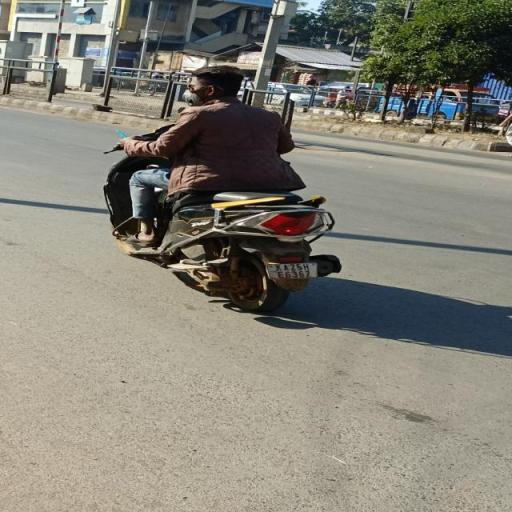bike: (96, 64, 350, 316)
numberplate: (268, 262, 319, 279)
withouthelmet: (184, 67, 242, 105)
